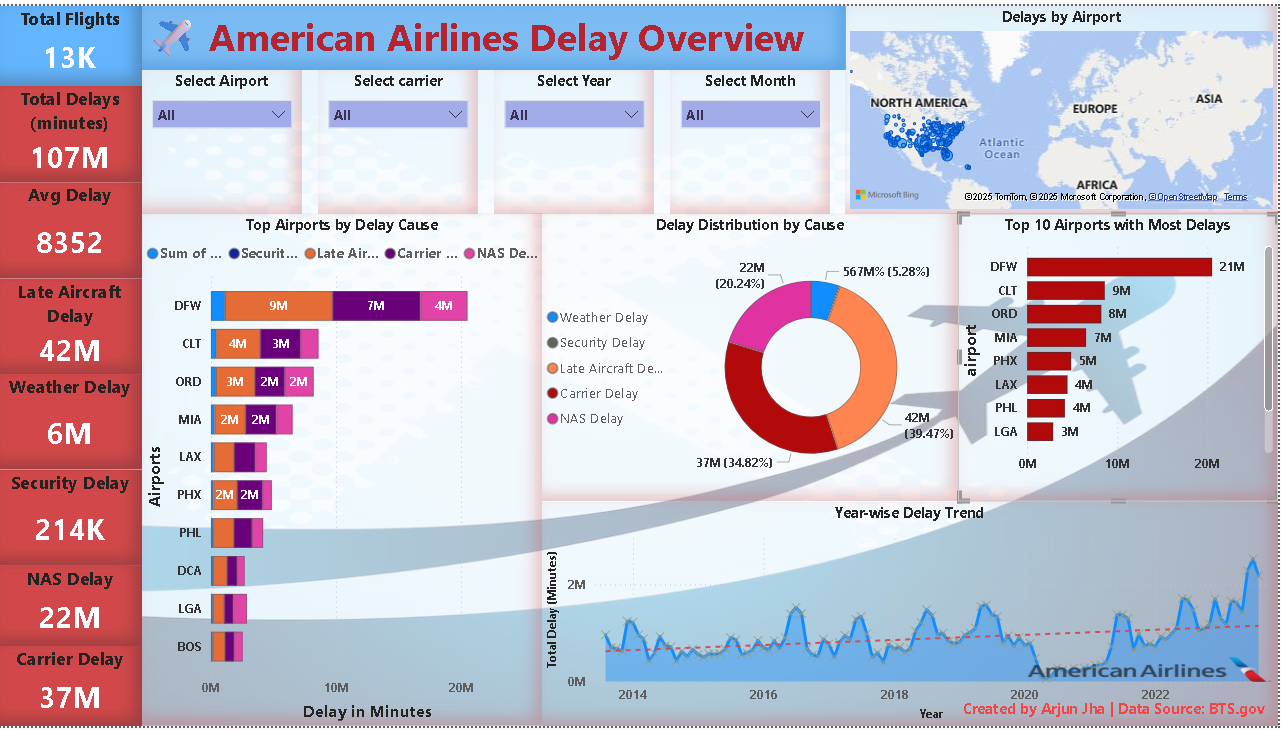

The page's visual inventory and layout, read from the dashboard file:
{"tool":"powerbi","page":{"name":"Page 1","canvas":[1280,720],"ordinal":0},"visuals":[{"type":"card","title":"Total Delays (minutes)","fields":{"Values":["airline_delays.Total Delay (Minutes)"]},"box":[0,80,144,96],"z":0},{"type":"card","title":"Security Delay","fields":{"Values":["airline_delays.Security Delay"]},"box":[0,464,144,96],"z":1000},{"type":"card","title":"Weather Delay","fields":{"Values":["Sum(airline_delays.weather_delay)"]},"box":[0,368,144,96],"z":2000},{"type":"card","title":"Avg Delay","fields":{"Values":["airline_delays.Average Delay per Flight"]},"box":[0,176,144,96],"z":3000},{"type":"clusteredBarChart","title":"Top 10 Airports with Most Delays","fields":{"Category":["airline_delays.airport"],"Y":["Sum(airline_delays.arr_delay)"]},"box":[960,208,320,288],"z":4000},{"type":"areaChart","title":"Year-wise Delay Trend","fields":{"Category":["airline_delays.flight_date.Variation.Date Hierarchy.Year","airline_delays.flight_date.Variation.Date Hierarchy.Quarter","airline_delays.flight_date.Variation.Date Hierarchy.Month","airline_delays.flight_date.Variation.Date Hierarchy.Day"],"Y":["airline_delays.Total Delay (Minutes)"]},"box":[544,496,736,224],"z":5000},{"type":"image","box":[1024,608,256,112],"z":6000},{"type":"textbox","box":[144,0,704,64],"z":7000},{"type":"barChart","title":"Top Airports by Delay Cause","fields":{"Category":["airline_delays.airport"],"Y":["Sum(airline_delays.weather_delay)","airline_delays.Security Delay","airline_delays.Late Aircraft Delay","airline_delays.Carrier Delay","airline_delays.NAS Delay"]},"box":[144,208,400,512],"z":8000},{"type":"card","title":"Total Flights","fields":{"Values":["airline_delays.Total Flights"]},"box":[0,0,144,80],"z":9000},{"type":"slicer","title":"Select carrier","fields":{"Values":["airline_delays.carrier_name"]},"box":[320,64,160,144],"z":10000},{"type":"slicer","title":"Select Year","fields":{"Values":["airline_delays.year"]},"box":[496,64,160,144],"z":11000},{"type":"slicer","title":"Select Airport","fields":{"Values":["airline_delays.airport"]},"box":[144,64,160,144],"z":12000},{"type":"slicer","title":"Select Month","fields":{"Values":["airline_delays.month"]},"box":[672,64,160,144],"z":13000},{"type":"card","title":"NAS Delay","fields":{"Values":["airline_delays.NAS Delay"]},"box":[0,560,144,80],"z":14000},{"type":"card","title":"Late Aircraft Delay","fields":{"Values":["airline_delays.Late Aircraft Delay"]},"box":[0,272,144,96],"z":15000},{"type":"card","title":"Carrier Delay","fields":{"Values":["airline_delays.Carrier Delay"]},"box":[0,640,144,80],"z":16000},{"type":"donutChart","title":"Delay Distribution by Cause","fields":{"Y":["airline_delays.Weather Delay","airline_delays.Security Delay","airline_delays.Late Aircraft Delay","airline_delays.Carrier Delay","airline_delays.NAS Delay"]},"box":[544,208,416,288],"z":17000},{"type":"map","title":"Delays by Airport","fields":{"Category":["airline_delays.airport_name"],"Size":["Sum(airline_delays.arr_delay)"]},"box":[848,0,432,208],"z":19000},{"type":"textbox","box":[960,688,320,32],"z":19001}]}

Visuals, with their boxes in screenshot pixels (x1, y1, x2, y2), scaled from the page's 1280x720 canvas onto the 1281x730 screenshot:
"Total Delays (minutes)" card: (x1=0, y1=81, x2=144, y2=178)
"Security Delay" card: (x1=0, y1=470, x2=144, y2=568)
"Weather Delay" card: (x1=0, y1=373, x2=144, y2=470)
"Avg Delay" card: (x1=0, y1=178, x2=144, y2=276)
"Top 10 Airports with Most Delays" clusteredBarChart: (x1=961, y1=211, x2=1280, y2=503)
"Year-wise Delay Trend" areaChart: (x1=544, y1=503, x2=1280, y2=729)
image: (x1=1025, y1=616, x2=1280, y2=729)
textbox: (x1=144, y1=0, x2=849, y2=65)
"Top Airports by Delay Cause" barChart: (x1=144, y1=211, x2=544, y2=729)
"Total Flights" card: (x1=0, y1=0, x2=144, y2=81)
"Select carrier" slicer: (x1=320, y1=65, x2=480, y2=211)
"Select Year" slicer: (x1=496, y1=65, x2=657, y2=211)
"Select Airport" slicer: (x1=144, y1=65, x2=304, y2=211)
"Select Month" slicer: (x1=673, y1=65, x2=833, y2=211)
"NAS Delay" card: (x1=0, y1=568, x2=144, y2=649)
"Late Aircraft Delay" card: (x1=0, y1=276, x2=144, y2=373)
"Carrier Delay" card: (x1=0, y1=649, x2=144, y2=729)
"Delay Distribution by Cause" donutChart: (x1=544, y1=211, x2=961, y2=503)
"Delays by Airport" map: (x1=849, y1=0, x2=1280, y2=211)
textbox: (x1=961, y1=698, x2=1280, y2=729)
